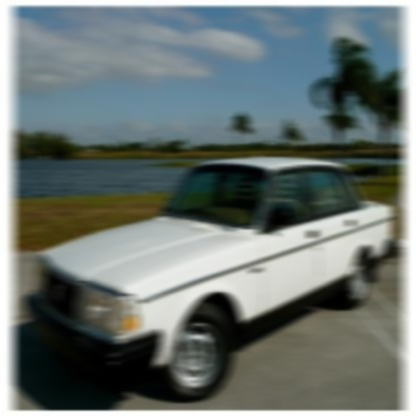Vehicle: (22, 152, 396, 405)
